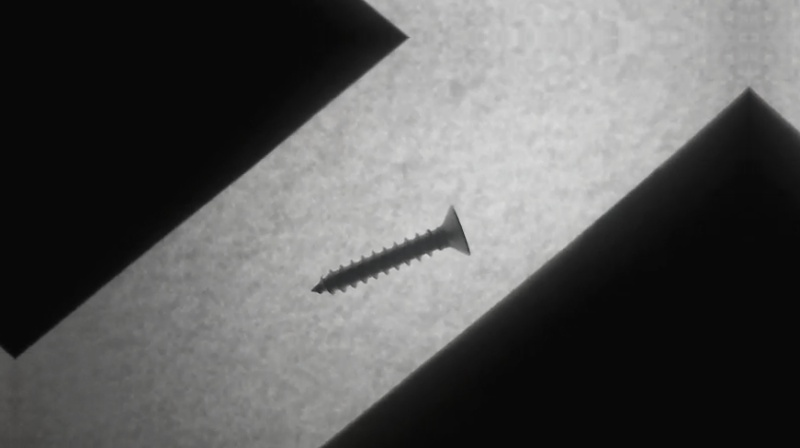S001: (304, 201, 472, 296)
